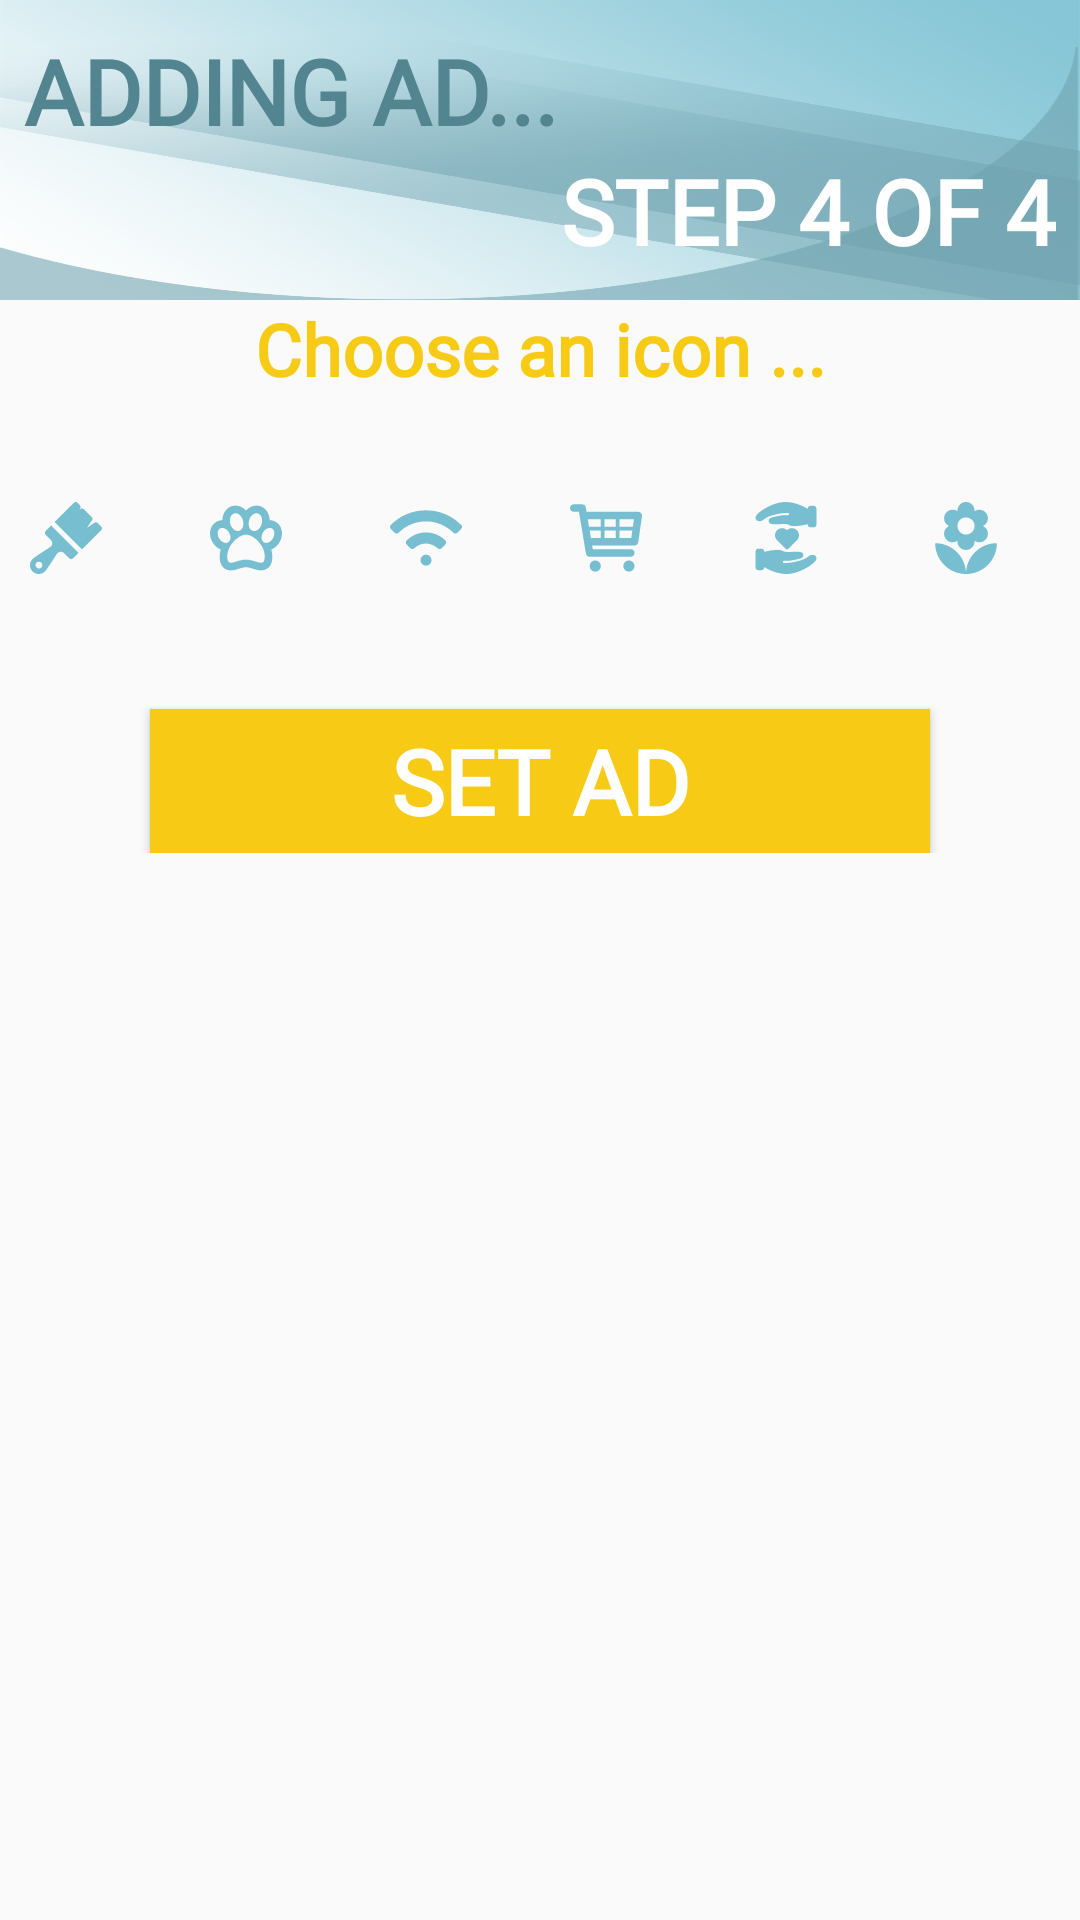

Icon bounding boxes for this 1080*1920 phone screenshot, format (x1, y1, x2, y2):
sel garden: (935, 502, 997, 574)
sel healthcare: (755, 502, 817, 574)
sel paint: (30, 502, 102, 574)
sel pets: (210, 505, 282, 571)
sel shopping: (570, 504, 642, 572)
sel wifi: (390, 510, 462, 566)
